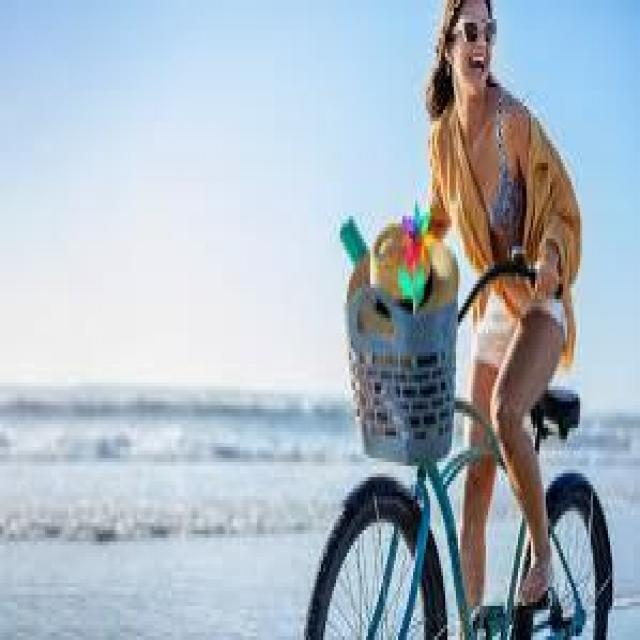bicycle: (311, 239, 608, 640)
